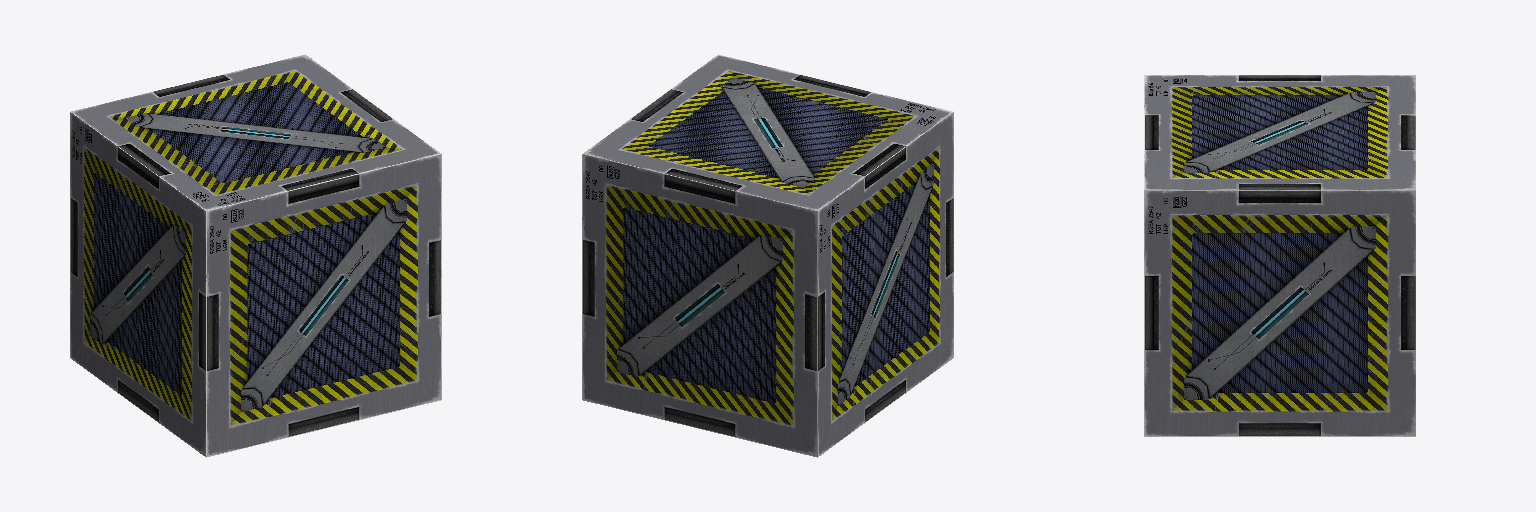
3 renders of one model, left to right at view 1: azimuth 30°, elevation 25°; view 2: azimuth 150°, elevation 25°; view 3: azimuth 270°, elevation 25°, orthographic.
Visible parts, largest first — view 1: Cube.001; view 2: Cube.001; view 3: Cube.001.
Boxes of the visible parts, <box> form: Cube.001: <box>70,54,441,457</box>; Cube.001: <box>582,54,953,457</box>; Cube.001: <box>1144,75,1415,436</box>.
Size of the model in its own units: 2 by 2 by 2.
Materials: 1 (1 with a texture image).